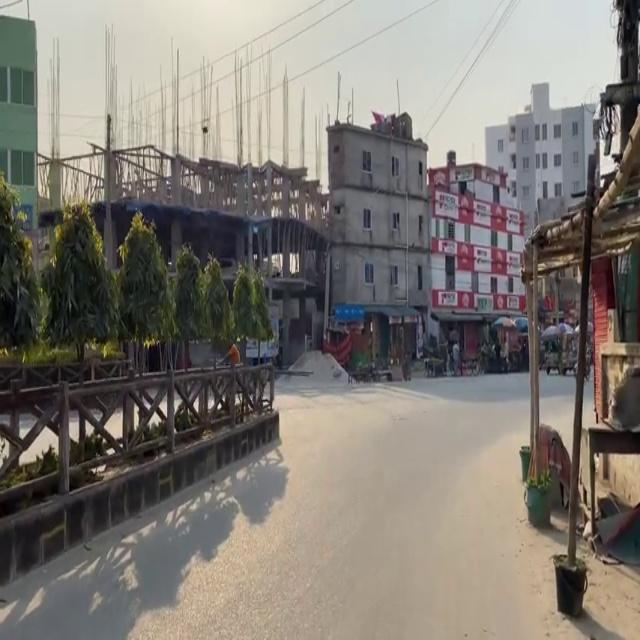Fallen-tree: (347, 360, 392, 383)
Light-pole: (565, 153, 597, 566), (524, 239, 541, 481)
Pole: (0, 306, 281, 546)
